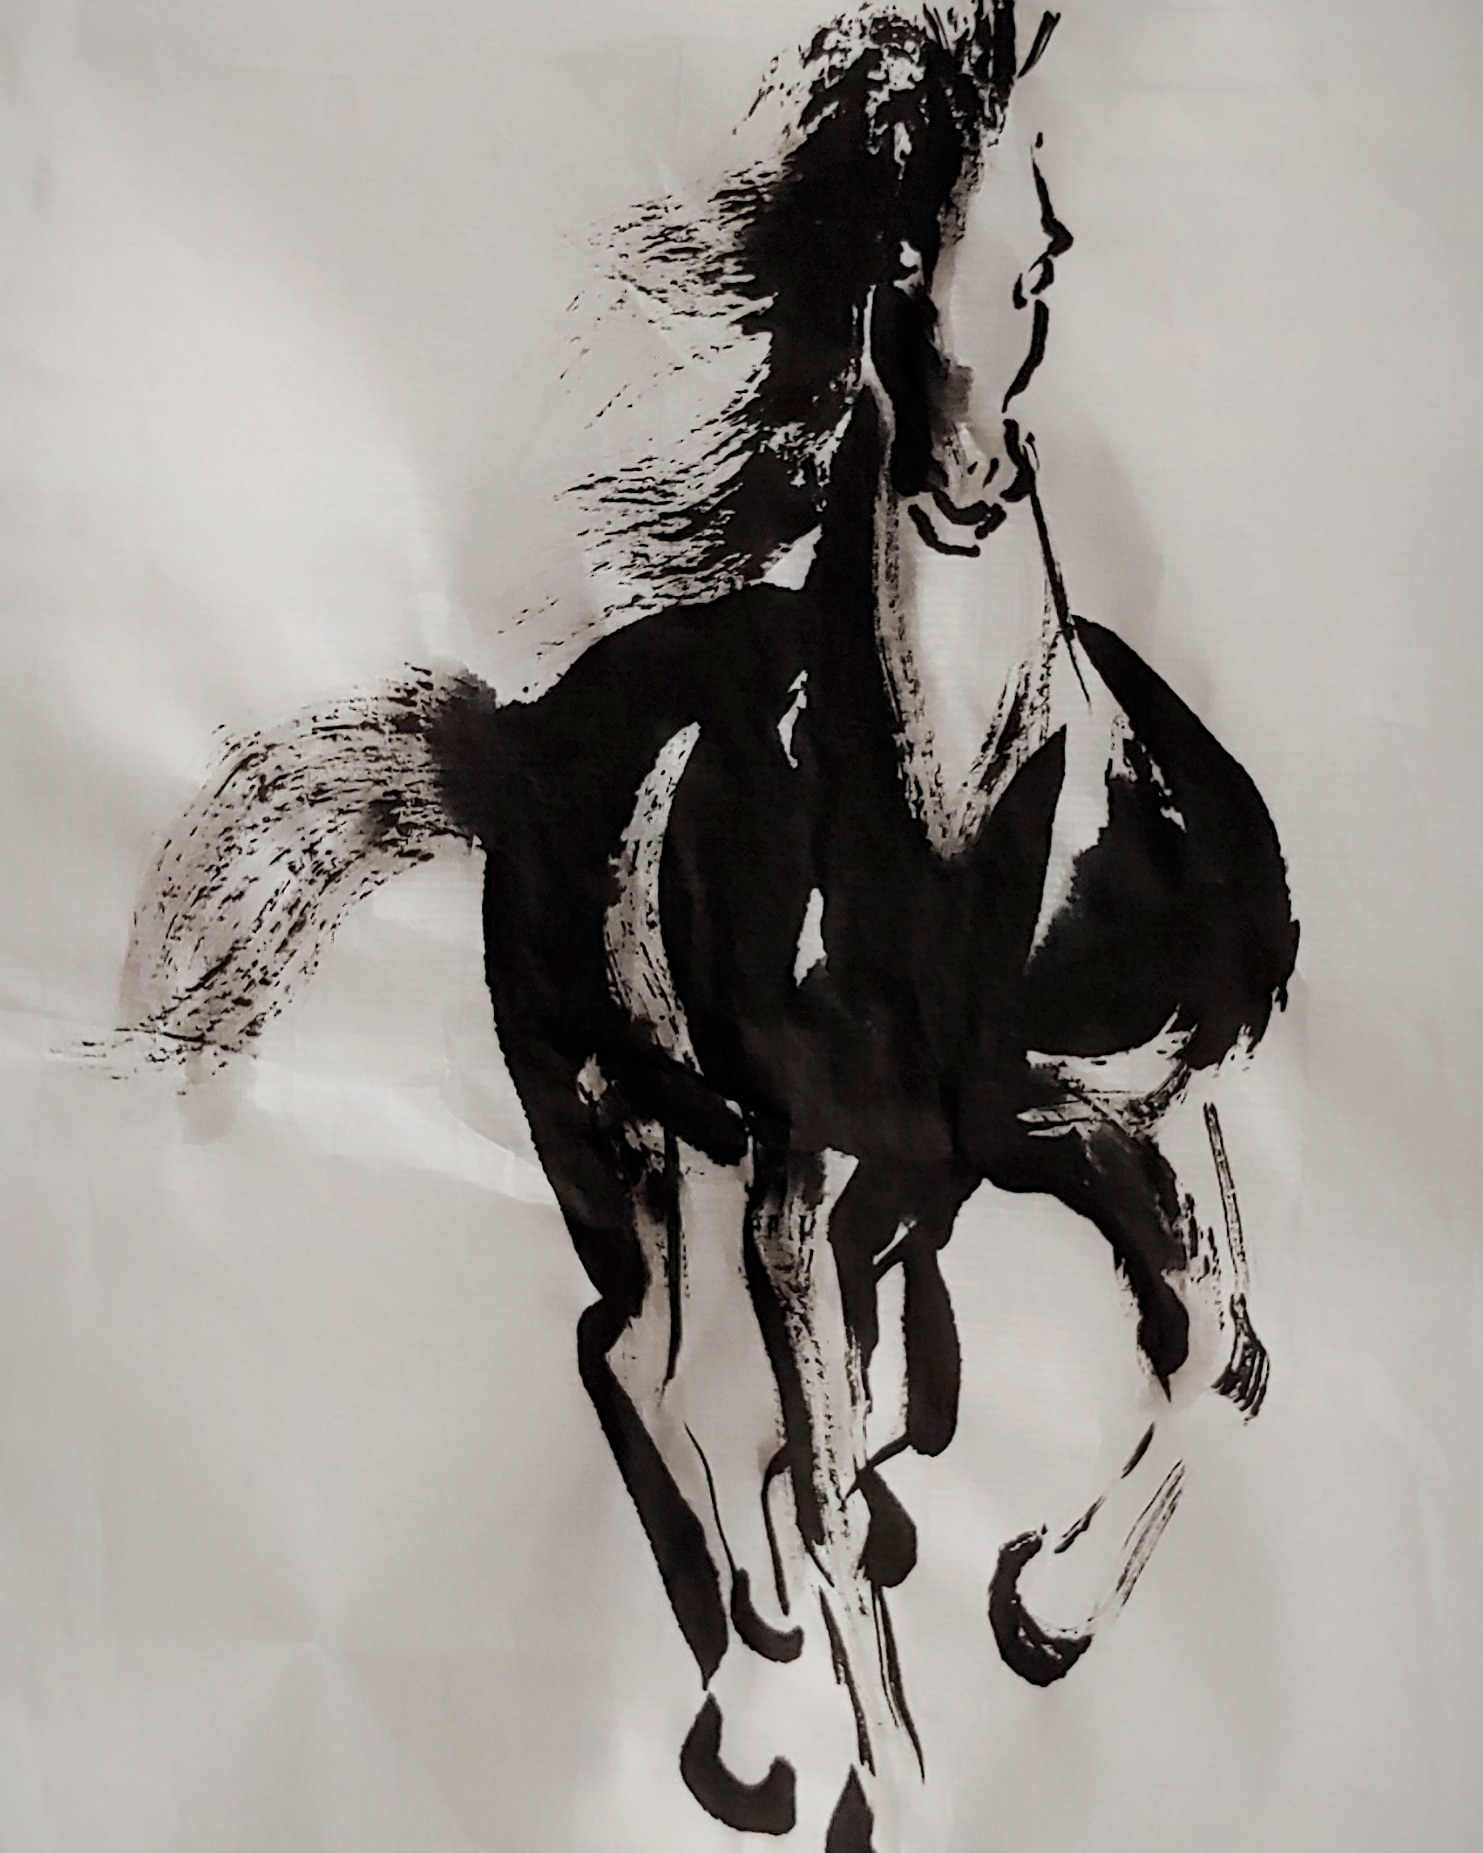background: (70, 2, 1332, 1853)
